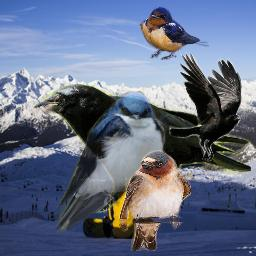Crow: (29, 84, 251, 213), (169, 52, 243, 164)
Swallow: (52, 90, 167, 232), (119, 150, 191, 251), (138, 6, 209, 60)
